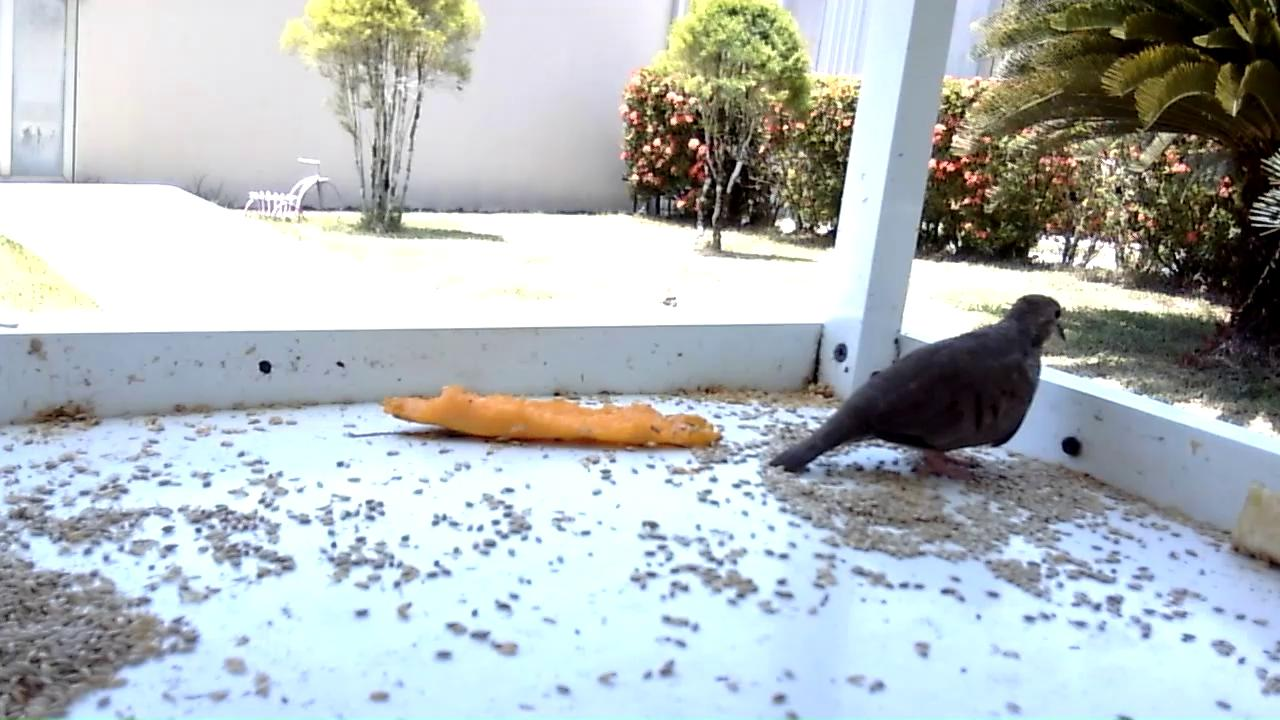rolinha: (769, 292, 1071, 479)
